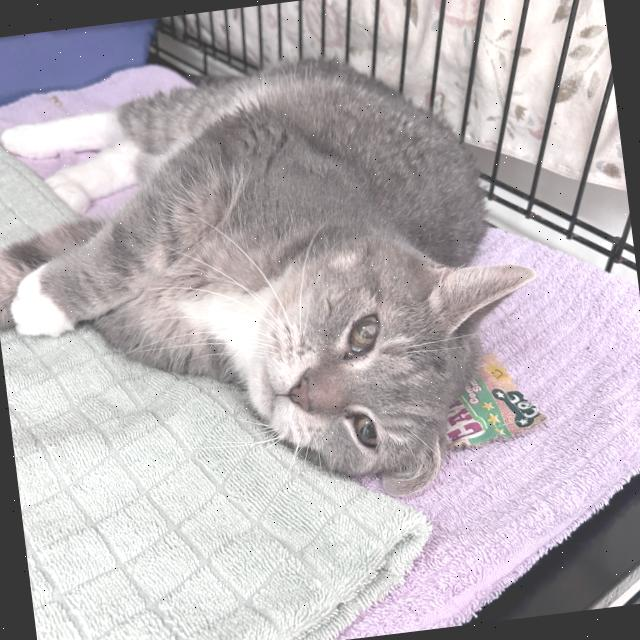domestic_short_hair_cat: (231, 199, 564, 521)
